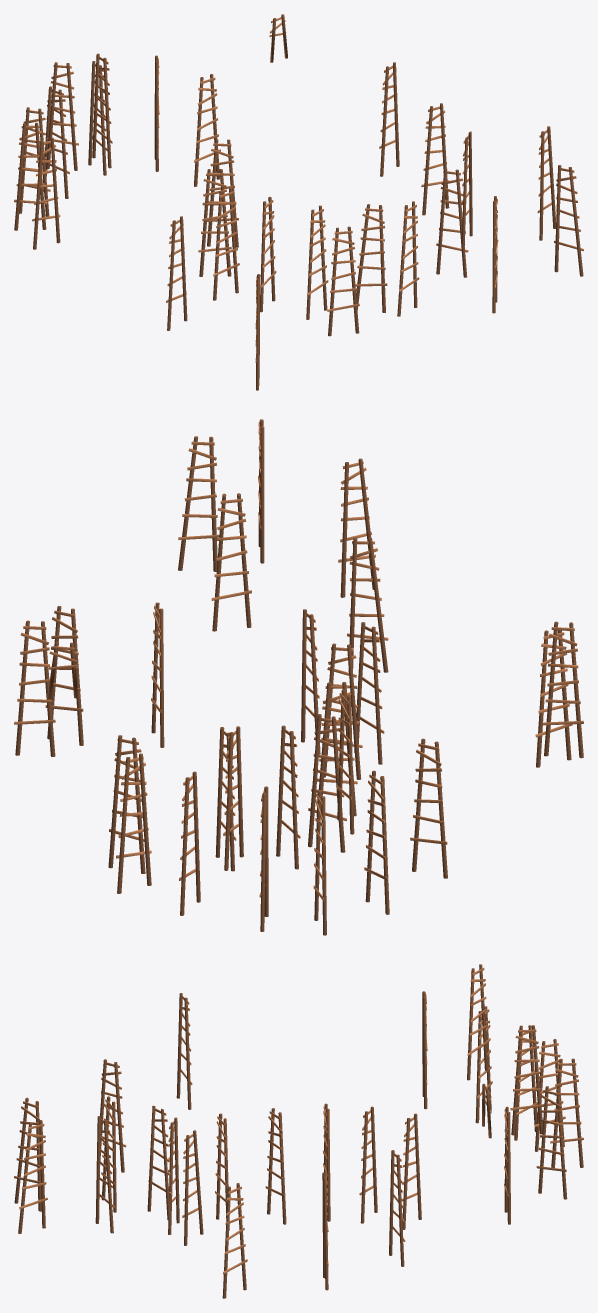
File: ApoyoCircuitos.fbx
3 views of the same model, one above another, from view 1: azimuth 30°, elevation 25°; view 2: azimuth 150°, elevation 25°; view 3: azimuth 270°, elevation 25° (orthographic). The views are drawn at different scales.
Visible parts, largest first — view 1: Cube.060; view 2: Cube.060; view 3: Cube.060.
Part boxes in pixels (x1=…): Cube.060: x1=14, y1=14, x2=583, y2=390; Cube.060: x1=14, y1=419, x2=583, y2=935; Cube.060: x1=14, y1=964, x2=583, y2=1298.
Size of the model in its own units: 22178 by 11517 by 29235.
